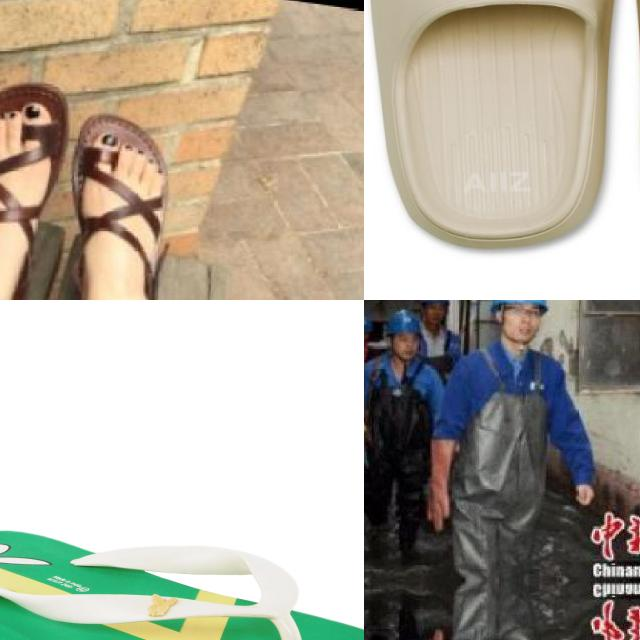Sandals: (364, 0, 640, 267), (0, 527, 364, 640), (72, 112, 171, 300), (0, 83, 67, 300)
face_nomask: (502, 307, 542, 339), (396, 332, 422, 357), (427, 304, 448, 326)
glasses: (502, 302, 546, 322)
hand_glove: (421, 484, 457, 532)
hand_noglove: (573, 484, 598, 506)
head_helmet: (384, 308, 424, 339), (486, 300, 551, 316), (417, 300, 452, 305), (364, 314, 372, 334)
person: (452, 300, 564, 589), (364, 314, 442, 559)
